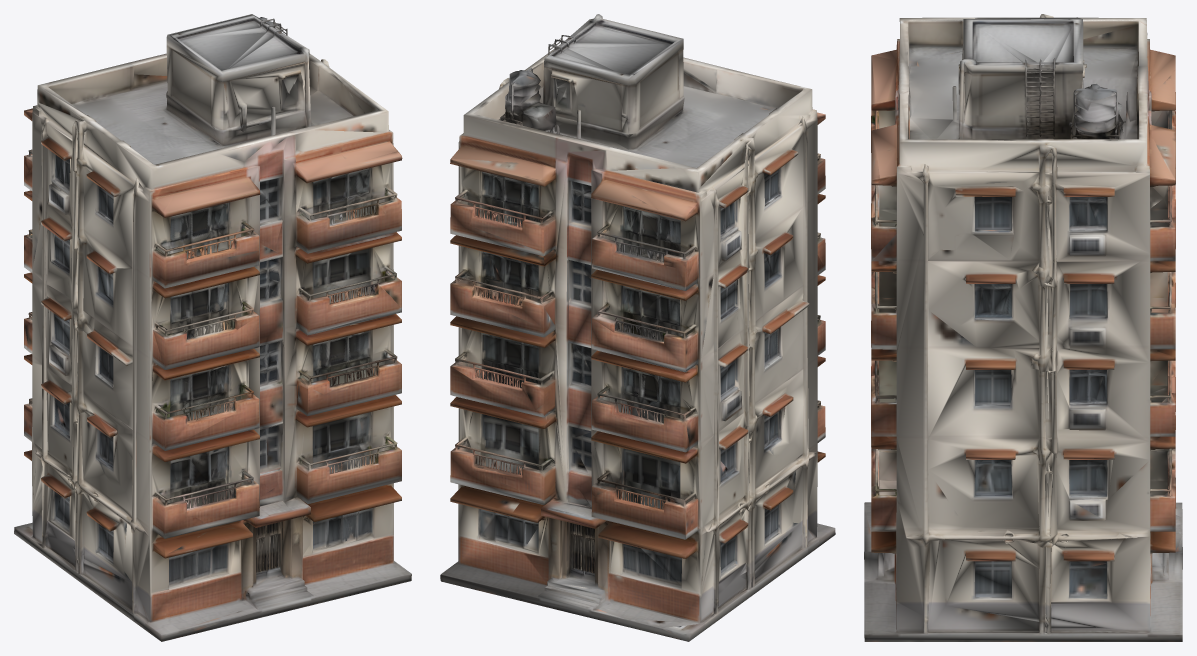
File: passiona-skygarden-learning-centre.glb
The picture shows the model from 3 angles, left to right: view 1: azimuth 30°, elevation 25°; view 2: azimuth 150°, elevation 25°; view 3: azimuth 270°, elevation 25°; orthographic projection. The views are drawn at different scales.
Visible parts, largest first — view 1: node_0; view 2: node_0; view 3: node_0.
Part boxes in pixels (x1,y1,x2,y2): node_0: (14, 14, 411, 641); node_0: (440, 14, 835, 641); node_0: (864, 14, 1182, 641).
Size of the model in its own units: 0.5163 by 0.9711 by 0.5073.
1 material, 1 textured.
